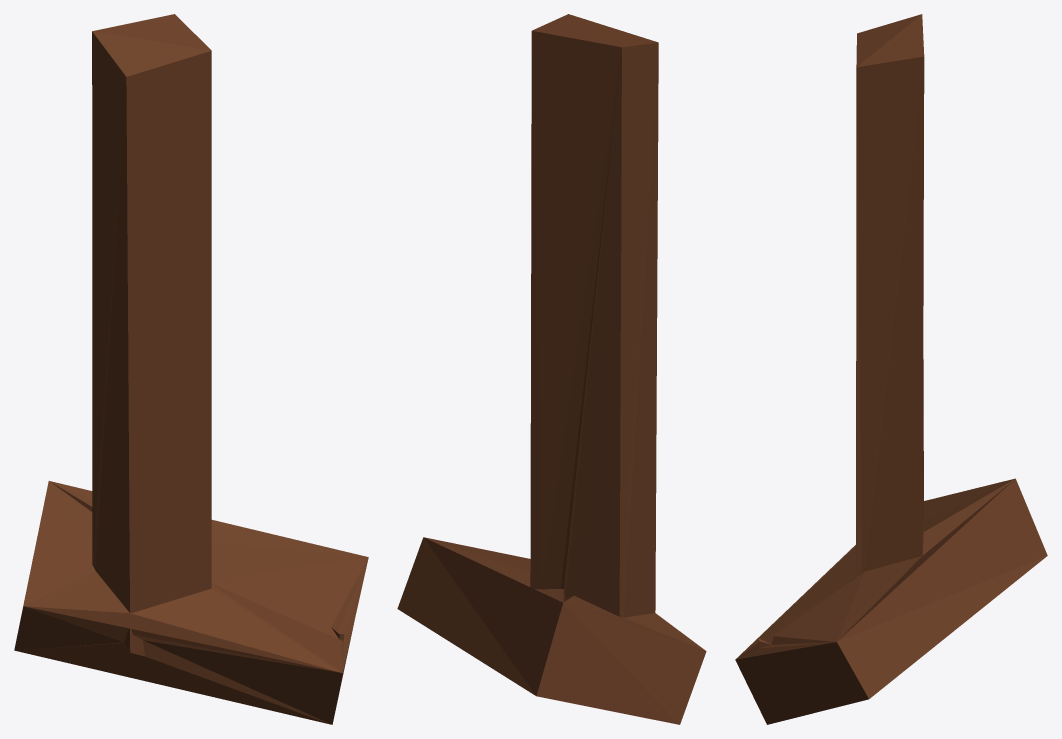
The picture shows the model from 3 angles, left to right: view 1: azimuth 30°, elevation 25°; view 2: azimuth 150°, elevation 25°; view 3: azimuth 270°, elevation 25°; orthographic projection. The views are drawn at different scales.
Visible parts, largest first — view 1: 601_Cube.2419; view 2: 601_Cube.2419; view 3: 601_Cube.2419.
Boxes of the visible parts, x1,y1,x2,y2 form: 601_Cube.2419: (14,14,368,724); 601_Cube.2419: (397,14,706,724); 601_Cube.2419: (735,14,1047,724).
Bounding box in the file's own units: 6.64 × 13.64 × 6.06.
